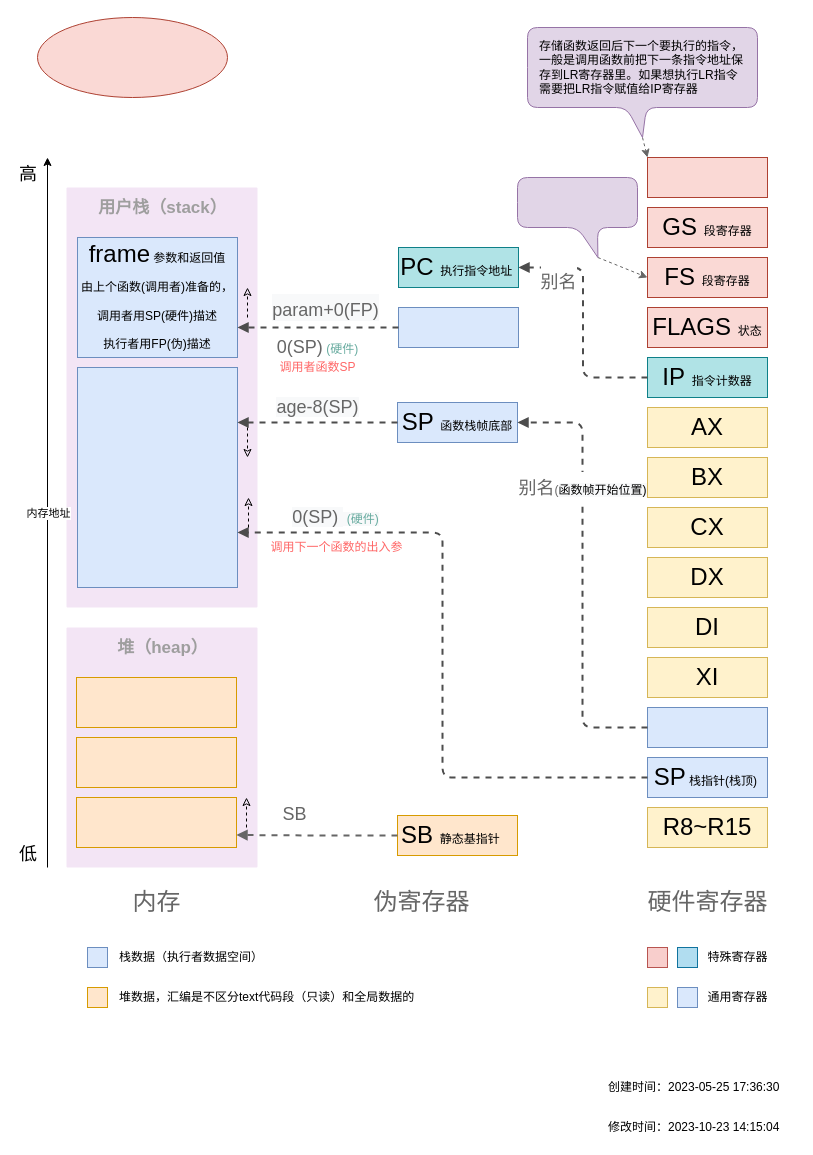
The diagram is 813 pixels wide and 1155 high, and some of its shapes have lost their labels. Here are the shapes that lost their labels. From the top down, the box of each, then its label:
(36, 16, 228, 98): 内存和寄存器
(646, 156, 768, 198): LR 存储返回指令
(516, 176, 638, 258): 实现线程本地存储 （TLS)
(398, 306, 518, 348): FP 函数的帧指针
(76, 366, 238, 588): local 局部变量数据 本地变量用SP(伪)描述 调用其他函数的参数和返回值用SP(硬件)描述
(76, 676, 236, 728): data 全局变量数据
(646, 706, 768, 748): BP 基指针( 栈底)
(76, 736, 236, 788): rodata 只读全局数据
(76, 796, 236, 848): text 要执行的指令数据
